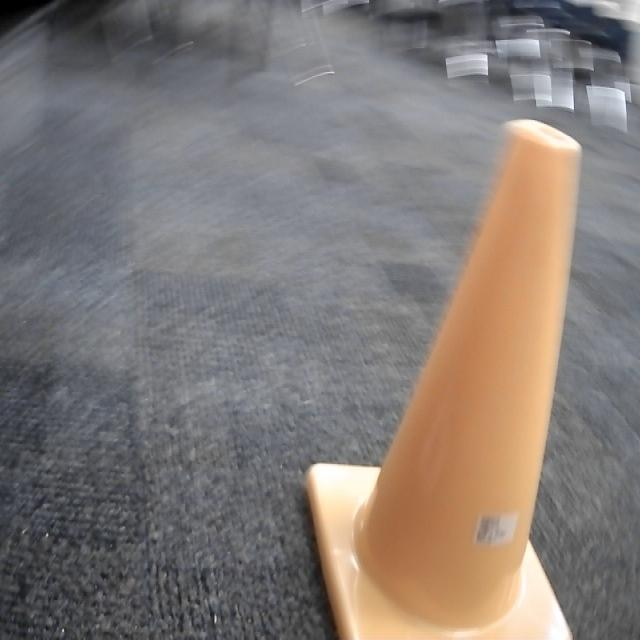cone: (305, 117, 584, 640)
